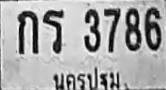3: (83, 8, 100, 51)
6: (144, 6, 160, 50)
7: (103, 7, 120, 52)
8: (124, 7, 140, 50)
A01: (17, 10, 38, 54)
A35: (42, 9, 64, 53)
NPT: (51, 67, 122, 90)
